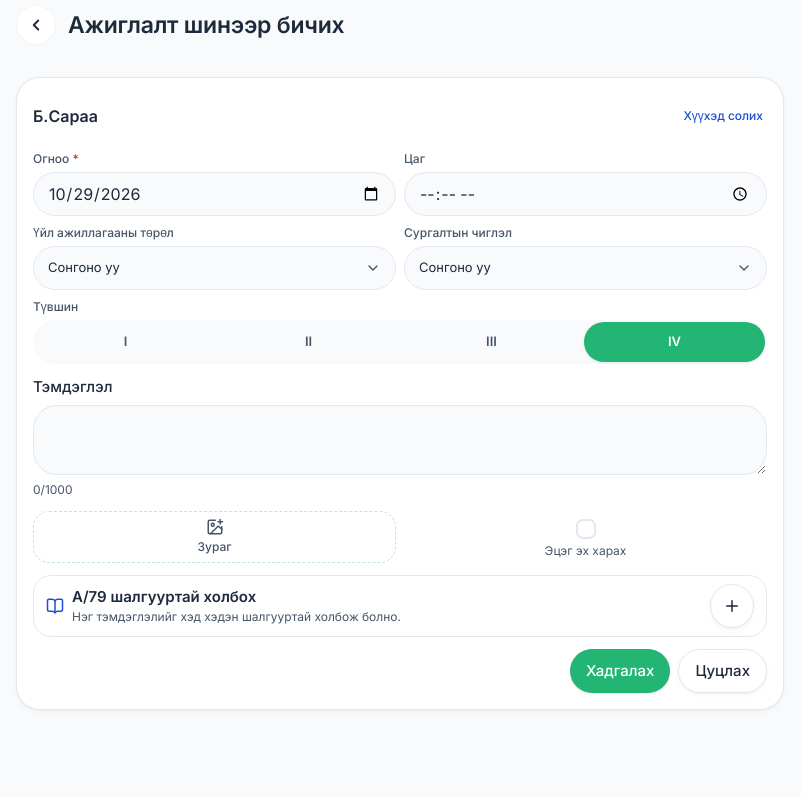
Test: Шинэ ажиглалт — СҮД › spells out each code's meaning at the level chosen
The width and height of the screenshot is (801, 797).
Click the dropdown named "Сургалтын чиглэл": click(455, 267) [404,246,767,290]
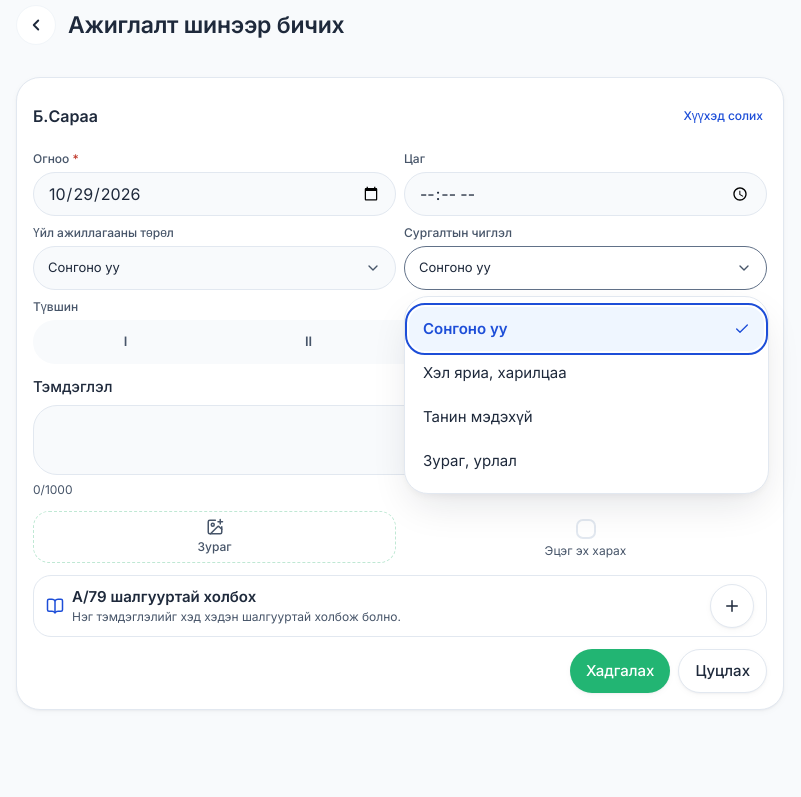
Click the option "Хэл яриа, харилцаа": click(495, 372) [423,363,567,382]
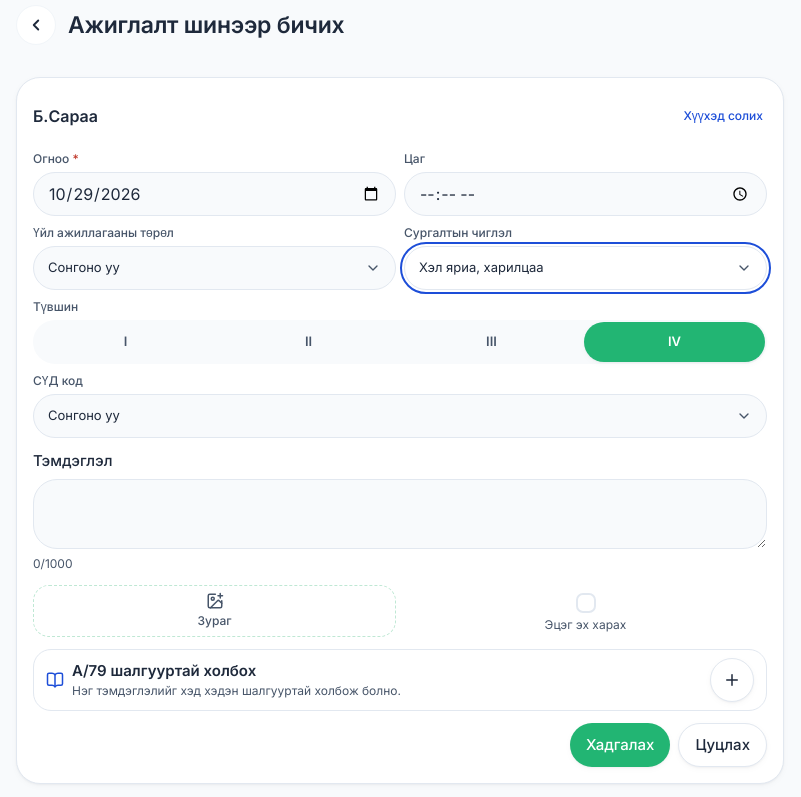
Click the dropdown named "СҮД код": click(84, 415) [33,394,767,438]
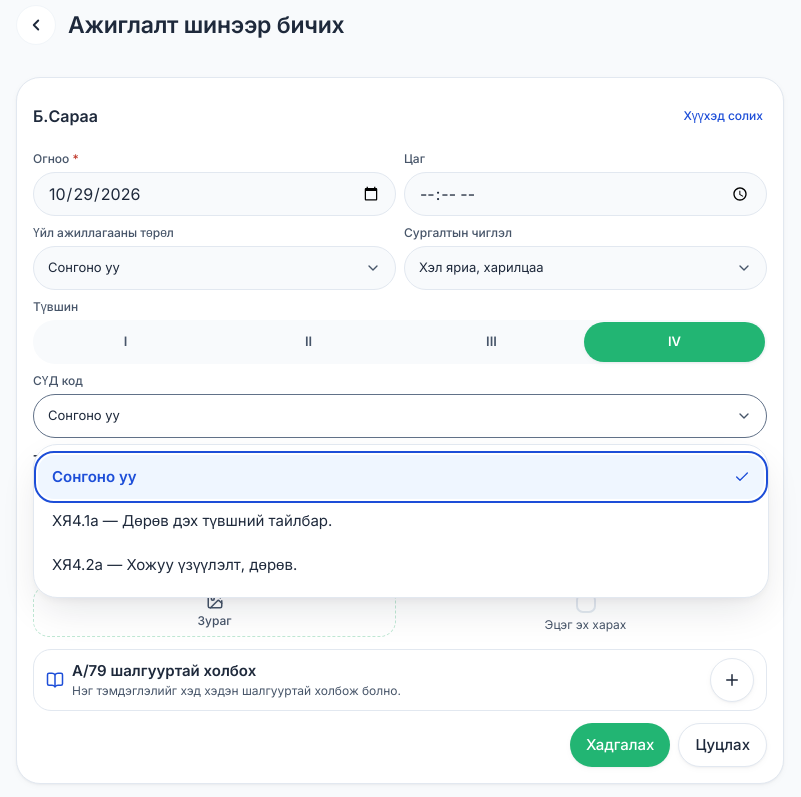
Now the option "ХЯ4.1а — Дөрөв дэх түвшний тайлбар." is shown, box [52,511,332,530]
